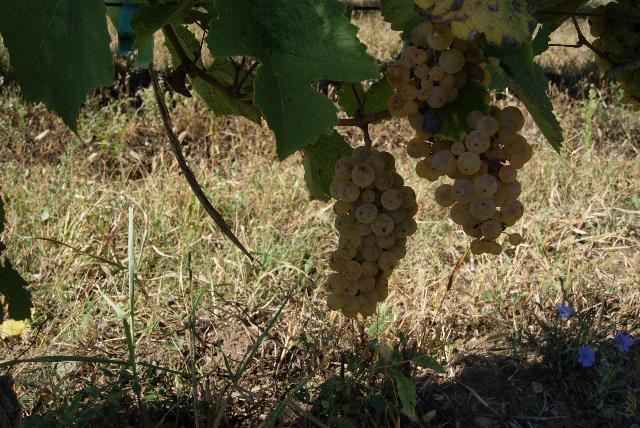grapes: (408, 105, 532, 255), (326, 146, 418, 319), (390, 22, 490, 116)
